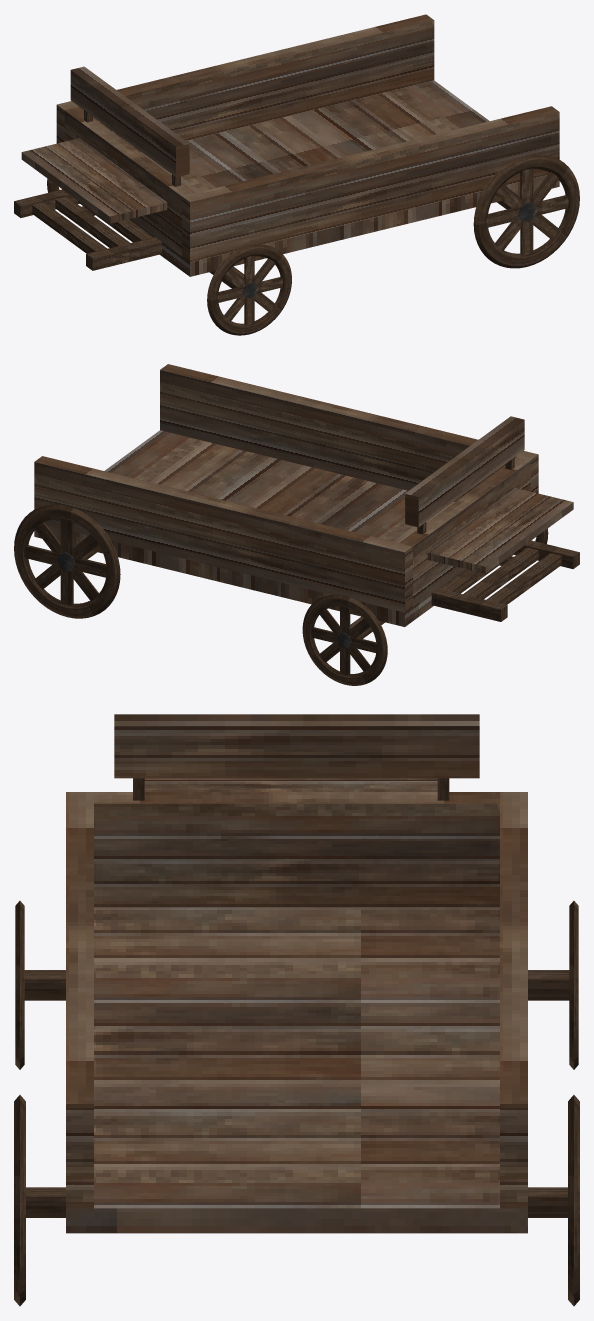
Rendered from Wagon.fbx.
3 renders of one model, top to bottom at view 1: azimuth 30°, elevation 25°; view 2: azimuth 150°, elevation 25°; view 3: azimuth 270°, elevation 25°, orthographic. The views are drawn at different scales.
Visible parts, largest first — view 1: Wagon; view 2: Wagon; view 3: Wagon.
Part boxes in pixels (box(x1,y1,x2,y2)): Wagon: box(14, 14, 579, 335); Wagon: box(14, 364, 579, 685); Wagon: box(14, 714, 579, 1306).
Size of the model in its own units: 482 by 185 by 306.
3 materials, 3 textured.
